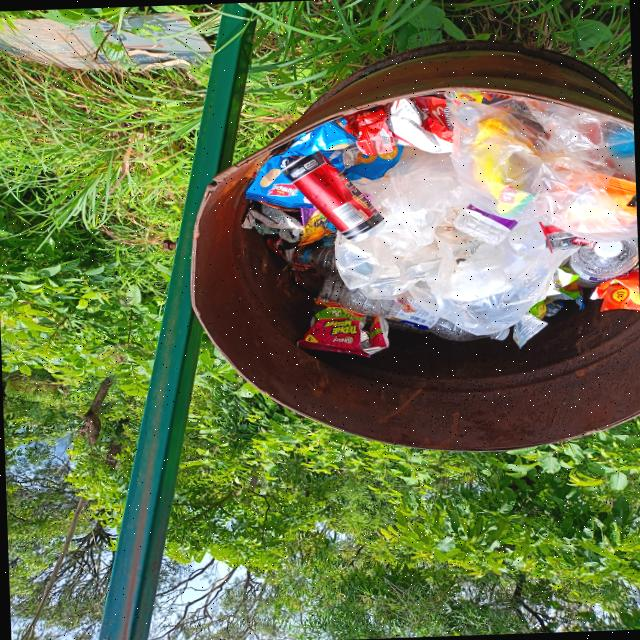garbage: (194, 74, 636, 358)
